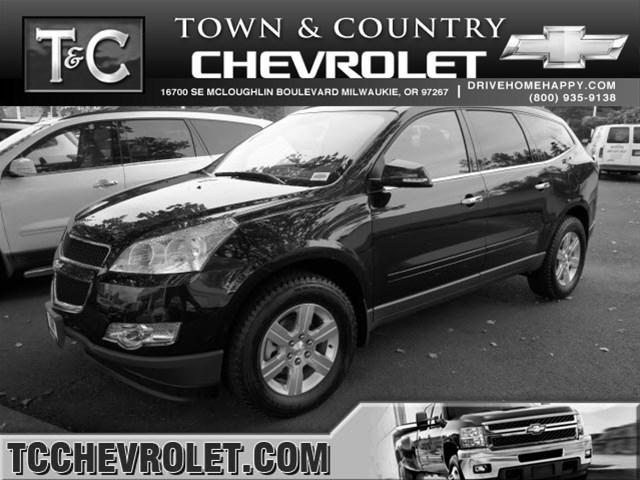car: (43, 104, 605, 416)
